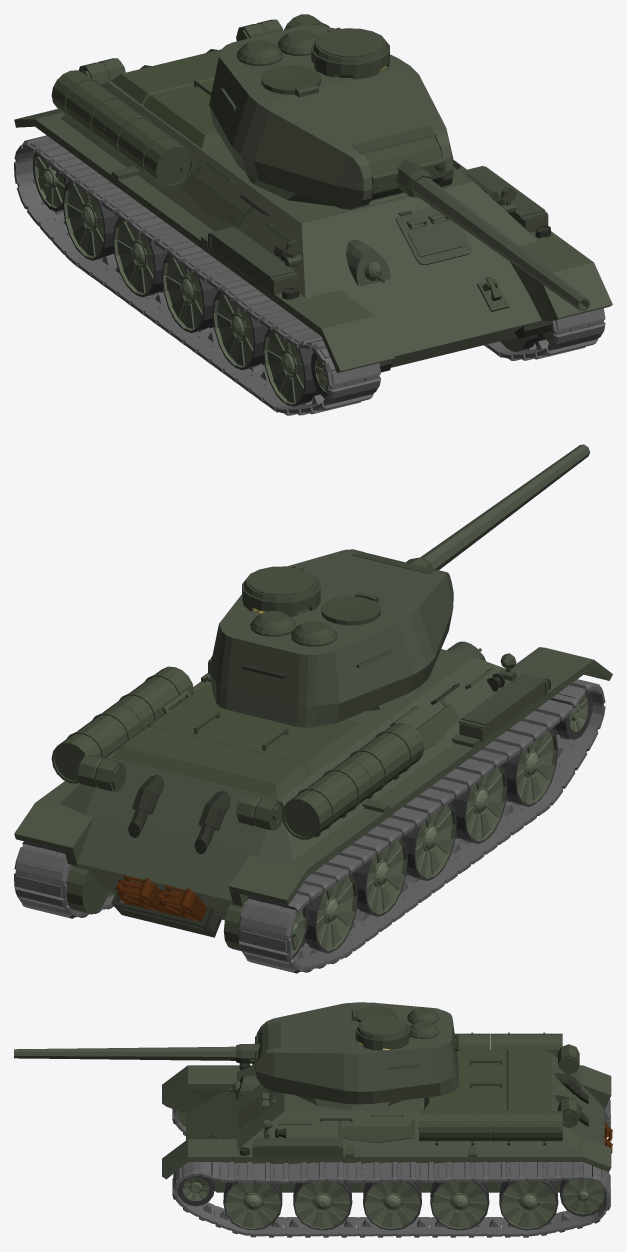
Rendered from Tank.fbx.
The picture shows the model from 3 angles, top to bottom: view 1: azimuth 30°, elevation 25°; view 2: azimuth 150°, elevation 25°; view 3: azimuth 270°, elevation 25°; orthographic projection. The views are drawn at different scales.
Visible parts, largest first — view 1: Cube_33, Plane_35, Cube.003_78, Cube.001_34, Plane.011_50, Cylinder.017_75, Cylinder.002_38, Cylinder.010_69, Plane.002_68, Circle.013_173, Circle.003_168, Circle.011_171 (+19 smaller); view 2: Plane_35, Cube_33, Cube.003_78, Plane.011_50, Cube.001_34, Cylinder.010_69, Cube.002_77, Cylinder.002_38, Cylinder.003_40, Cylinder.017_75, Circle.013_173, Plane.002_68 (+21 smaller); view 3: Plane_35, Cube.002_77, Cube_33, Cube.001_34, Plane.011_50, Cylinder.002_38, Circle.039_134, Circle.038_133, Circle.037_132, Circle.036_131, Circle.001_80, Cylinder.003_40 (+19 smaller).
Boxes of the visible parts, x1,y1,x2,y2 form: Cube_33: (60, 80, 542, 367); Plane_35: (209, 25, 453, 209); Cube.003_78: (14, 135, 380, 415); Cube.001_34: (14, 109, 612, 373); Plane.011_50: (111, 49, 224, 148); Cylinder.017_75: (104, 108, 193, 187); Cylinder.002_38: (413, 177, 589, 311); Cylinder.010_69: (51, 70, 135, 146); Plane.002_68: (208, 227, 297, 294); Circle.013_173: (63, 181, 118, 260); Circle.003_168: (263, 328, 319, 406); Circle.011_171: (161, 254, 218, 332); Plane_35: (209, 549, 453, 727); Cube_33: (60, 649, 521, 920); Cube.003_78: (238, 679, 605, 973); Plane.011_50: (111, 685, 369, 798); Cube.001_34: (14, 647, 612, 906); Cylinder.010_69: (282, 761, 371, 839); Cube.002_77: (14, 841, 122, 918); Cylinder.002_38: (421, 444, 590, 569); Cylinder.003_40: (51, 705, 141, 783); Cylinder.017_75: (340, 723, 424, 798); Circle.013_173: (301, 873, 357, 953); Plane.002_68: (458, 674, 548, 742); Plane_35: (255, 1002, 458, 1109); Cube.002_77: (172, 1162, 610, 1237); Cube_33: (186, 1053, 604, 1192); Cube.001_34: (162, 1065, 611, 1179); Plane.011_50: (424, 1050, 551, 1110); Cylinder.002_38: (14, 1046, 235, 1060); Circle.039_134: (499, 1176, 558, 1230); Circle.038_133: (430, 1181, 489, 1230); Circle.037_132: (363, 1181, 421, 1230); Circle.036_131: (293, 1181, 352, 1230); Circle.001_80: (223, 1172, 282, 1230); Cylinder.003_40: (490, 1110, 562, 1145).
Bounding box in the file's own units: 124 × 111 × 338.
